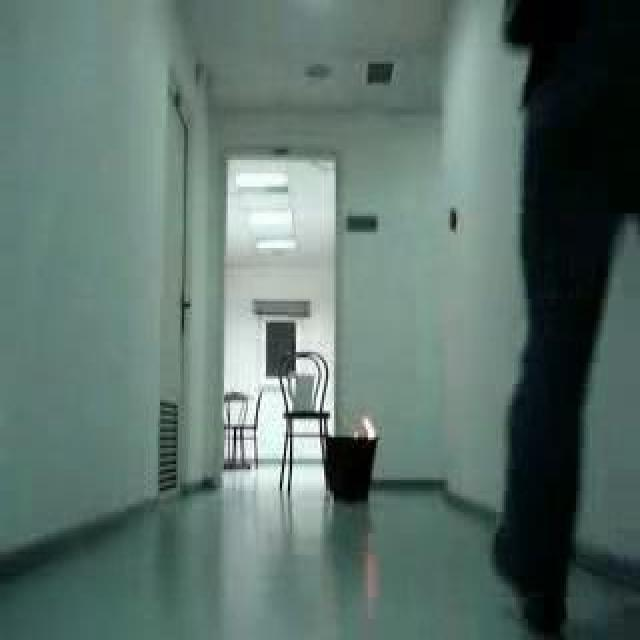Fire: (356, 415, 378, 441)
